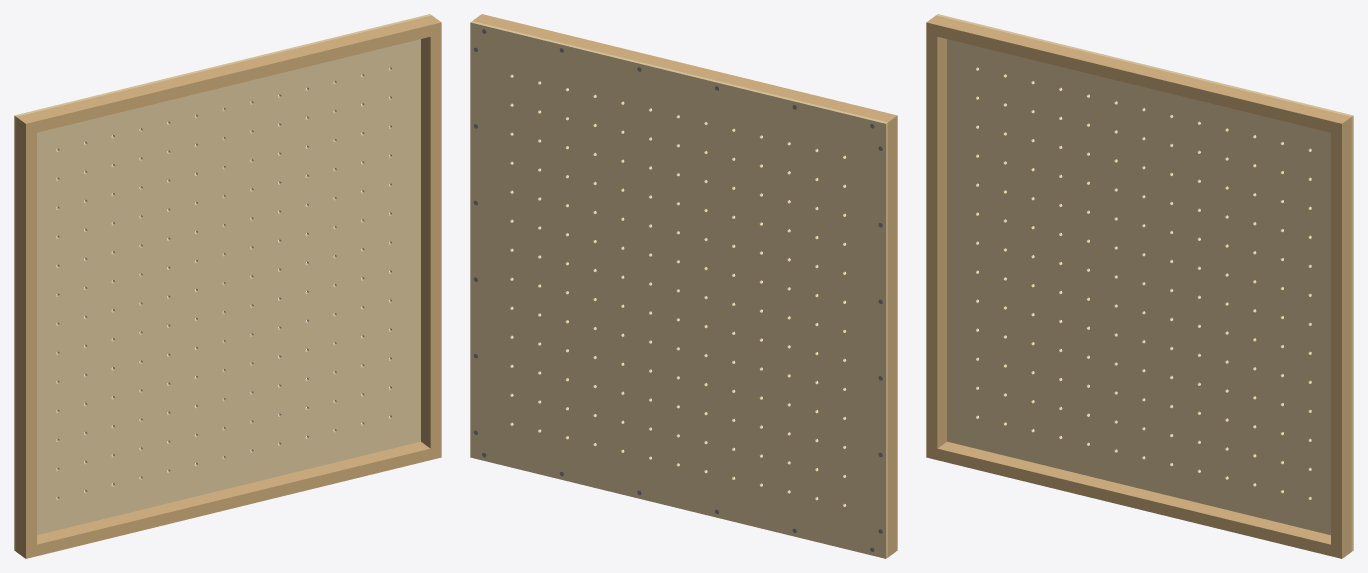
3 views of the same model, side by side, from view 1: azimuth 30°, elevation 25°; view 2: azimuth 150°, elevation 25°; view 3: azimuth 330°, elevation 25° (orthographic).
Visible parts, largest first — view 1: panel, rail_h_2, rail_h_1, rail_v_1, rail_v_2; view 2: panel, rail_h_2, rail_v_1; view 3: panel, rail_h_2, rail_h_1, rail_v_2, rail_v_1.
Part boxes in pixels (x1,y1,x2,y2): panel: (14,14,431,551); rail_h_2: (16,15,441,135); rail_h_1: (16,441,441,558); rail_v_1: (16,129,36,547); rail_v_2: (421,34,441,448); panel: (470,21,887,558); rail_h_2: (473,14,897,133); rail_v_1: (888,127,897,545); panel: (936,14,1353,551); rail_h_2: (926,15,1351,135); rail_h_1: (926,441,1351,558); rail_v_2: (1331,129,1351,547); rail_v_1: (926,34,946,448).
Bounding box in the file's own units: 750 × 750 × 36.
